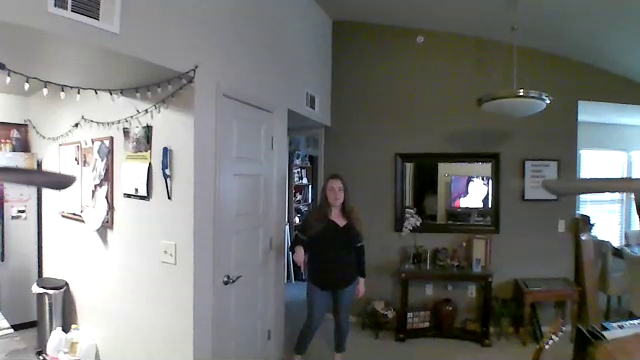down: (289, 240, 311, 279)
